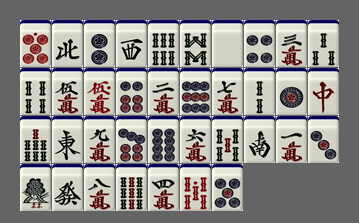0m: (84, 68, 115, 115)
0p: (20, 20, 51, 67)
0s: (180, 164, 211, 211)
1m: (276, 116, 307, 163)
1p: (276, 68, 307, 115)
1s: (20, 164, 51, 211)
1z: (52, 116, 83, 163)
2m: (148, 68, 179, 115)
2p: (84, 20, 115, 67)
2s: (244, 68, 275, 115)
2z: (244, 116, 275, 163)
3m: (276, 20, 307, 67)
3p: (308, 116, 339, 163)
3s: (308, 20, 339, 67)
3z: (116, 20, 147, 67)
4m: (148, 164, 179, 211)
4p: (244, 20, 275, 67)
4s: (20, 68, 51, 115)
4z: (52, 20, 83, 67)
5m: (52, 68, 83, 115)
5p: (212, 164, 243, 211)
5s: (212, 116, 243, 163)
5z: (212, 20, 243, 67)
6m: (180, 116, 211, 163)
6p: (116, 68, 147, 115)
6s: (148, 20, 179, 67)
6z: (52, 164, 83, 211)
7m: (212, 68, 243, 115)
7p: (116, 116, 147, 163)
7s: (20, 116, 51, 163)
7z: (308, 68, 339, 115)
8m: (84, 164, 115, 211)
8p: (148, 116, 179, 163)
8s: (180, 20, 211, 67)
9m: (84, 116, 115, 163)
9p: (180, 68, 211, 115)
9s: (116, 164, 147, 211)
